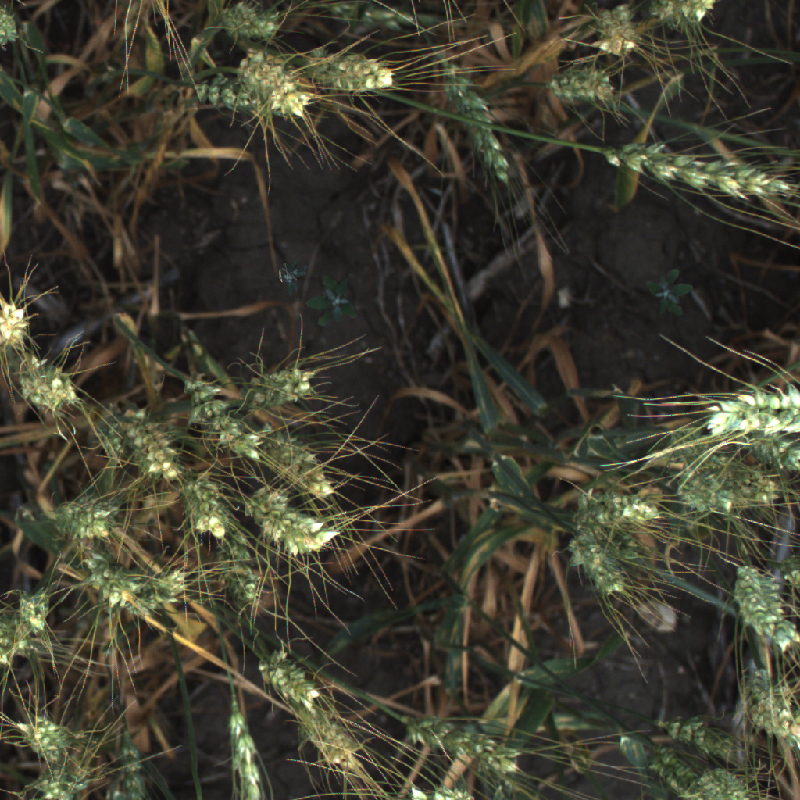spikelet: (600, 132, 800, 207), (433, 49, 518, 194), (174, 368, 271, 465), (400, 710, 523, 778), (236, 489, 347, 560), (256, 417, 342, 502), (110, 399, 193, 485), (694, 378, 800, 442), (228, 52, 316, 121), (289, 44, 399, 98), (674, 473, 790, 519), (722, 557, 782, 643), (736, 665, 800, 745), (253, 642, 324, 714), (77, 550, 148, 622), (564, 485, 669, 533), (47, 492, 136, 548), (295, 704, 365, 774), (210, 540, 275, 612), (747, 566, 799, 652), (114, 562, 196, 614), (14, 354, 82, 415), (564, 528, 626, 594), (178, 475, 235, 546), (242, 360, 328, 407), (206, 1, 291, 48), (651, 714, 739, 759), (192, 69, 269, 120), (223, 705, 264, 800), (539, 64, 622, 110), (13, 709, 86, 761), (7, 573, 57, 645), (646, 743, 704, 800), (584, 3, 643, 58), (332, 1, 421, 35), (669, 428, 739, 470), (1, 289, 39, 357), (107, 731, 144, 800), (749, 424, 800, 473), (575, 525, 652, 557), (26, 765, 93, 800), (1, 2, 40, 60), (651, 1, 717, 35), (696, 765, 753, 800), (1, 613, 33, 664), (402, 782, 479, 800)
weed: (302, 269, 364, 332), (646, 269, 693, 318), (274, 256, 316, 298)
